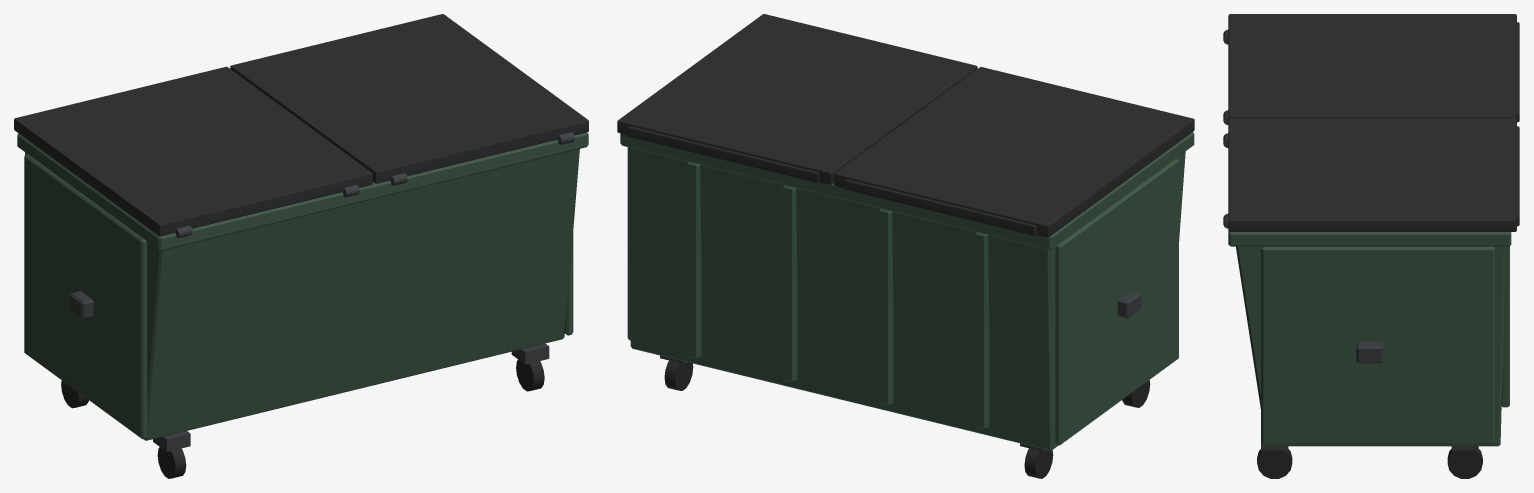
Rendered from prop_dumpster.glb.
3 renders of one model, left to right at view 1: azimuth 30°, elevation 25°; view 2: azimuth 150°, elevation 25°; view 3: azimuth 270°, elevation 25°, orthographic.
Visible parts, largest first — view 1: Body, LidMesh; view 2: Body, LidMesh; view 3: LidMesh, Body.
Boxes of the visible parts, left/top/right/bottom form: Body: left=17, top=132, right=588, bottom=478; LidMesh: left=14, top=14, right=588, bottom=237; Body: left=620, top=132, right=1194, bottom=478; LidMesh: left=617, top=14, right=1194, bottom=237; LidMesh: left=1223, top=14, right=1519, bottom=231; Body: left=1228, top=230, right=1511, bottom=478.
Size of the model in its own units: 1.9 by 1.11 by 1.09.
